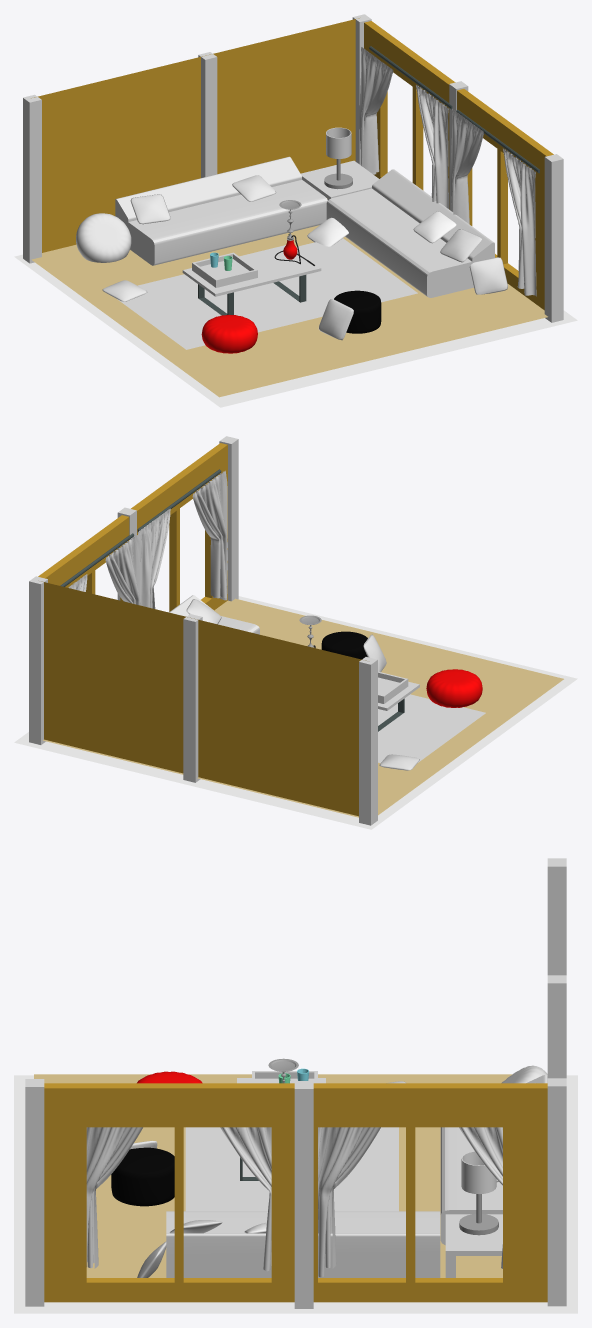
3 views of the same model, one above another, from view 1: azimuth 30°, elevation 25°; view 2: azimuth 150°, elevation 25°; view 3: azimuth 270°, elevation 25° (orthographic). The views are drawn at different scales.
Parts seen in each view (by area): view 1: node_20d93579_75fa_4b3d_a7e2_941d030e32ad_mesh0, node_d9c7d43b_3aca_48a9_93f9_915221a6483f_mesh0, node_b8a68b0b_8ff4_4136_9b34_05bc81d52556_mesh0, node_9f832873_7d57_4ad8_9b65_c66cfe17a4cb_mesh0, node_99283b48_a8bb_4089_88f0_9c91703dcc80_mesh0, node_65457b82_7571_4bde_8e88_470380910218_mesh0, node_9d2074c6_01f7_47d1_b5b8_4e52bf29071a_mesh0, node_0b06cc1f_5de7_423e_8459_76ba992030cf_mesh0, node_c39a4a16_4f59_417a_9865_62e4b864f9b2_mesh0, node_51bc653c_e51f_416e_9c50_a966a71bbad7_mesh0, node_58dee220_80a7_4308_b513_c4cc85b1e8c8_mesh0, node_ad3af5ea_87ed_40a0_8f16_532a77749d54_mesh0 (+20 smaller); view 2: node_20d93579_75fa_4b3d_a7e2_941d030e32ad_mesh0, node_d9c7d43b_3aca_48a9_93f9_915221a6483f_mesh0, node_99283b48_a8bb_4089_88f0_9c91703dcc80_mesh0, node_9d2074c6_01f7_47d1_b5b8_4e52bf29071a_mesh0, node_9f832873_7d57_4ad8_9b65_c66cfe17a4cb_mesh0, node_c39a4a16_4f59_417a_9865_62e4b864f9b2_mesh0, node_51bc653c_e51f_416e_9c50_a966a71bbad7_mesh0, node_81051892_5a3a_4deb_9531_d4b74def36a1_mesh0, node_38c67f0a_60a3_4185_b19c_8ae27163a3ea_mesh0, node_1923faae_39f5_437d_8101_7b4ec6585522_mesh0, node_0b06cc1f_5de7_423e_8459_76ba992030cf_mesh0, node_b2352418_5173_474b_b52a_857bb3c06a34_mesh0 (+4 smaller); view 3: node_99283b48_a8bb_4089_88f0_9c91703dcc80_mesh0, node_d9c7d43b_3aca_48a9_93f9_915221a6483f_mesh0, node_65457b82_7571_4bde_8e88_470380910218_mesh0, node_9d2074c6_01f7_47d1_b5b8_4e52bf29071a_mesh0, node_9f832873_7d57_4ad8_9b65_c66cfe17a4cb_mesh0, node_38c67f0a_60a3_4185_b19c_8ae27163a3ea_mesh0, node_7d7b0990_b175_47a4_bcf0_79ea0ada298b_mesh0, node_0b06cc1f_5de7_423e_8459_76ba992030cf_mesh0, node_998a44b5_c286_49a2_afcc_a69e033edf71_mesh0, node_b8a68b0b_8ff4_4136_9b34_05bc81d52556_mesh0, node_9a859d35_2ba9_4da5_b967_aacd93b305de_mesh0, node_51bc653c_e51f_416e_9c50_a966a71bbad7_mesh0 (+9 smaller).
Boxes of the visible parts, left/top/right/bottom form: node_20d93579_75fa_4b3d_a7e2_941d030e32ad_mesh0: left=31, top=18, right=359, bottom=252; node_d9c7d43b_3aca_48a9_93f9_915221a6483f_mesh0: left=31, top=198, right=547, bottom=397; node_b8a68b0b_8ff4_4136_9b34_05bc81d52556_mesh0: left=115, top=156, right=327, bottom=265; node_9f832873_7d57_4ad8_9b65_c66cfe17a4cb_mesh0: left=117, top=238, right=417, bottom=349; node_99283b48_a8bb_4089_88f0_9c91703dcc80_mesh0: left=364, top=21, right=553, bottom=310; node_65457b82_7571_4bde_8e88_470380910218_mesh0: left=326, top=169, right=494, bottom=297; node_9d2074c6_01f7_47d1_b5b8_4e52bf29071a_mesh0: left=14, top=254, right=577, bottom=407; node_0b06cc1f_5de7_423e_8459_76ba992030cf_mesh0: left=544, top=154, right=563, bottom=322; node_c39a4a16_4f59_417a_9865_62e4b864f9b2_mesh0: left=23, top=94, right=41, bottom=263; node_51bc653c_e51f_416e_9c50_a966a71bbad7_mesh0: left=503, top=148, right=536, bottom=296; node_58dee220_80a7_4308_b513_c4cc85b1e8c8_mesh0: left=359, top=47, right=393, bottom=174; node_ad3af5ea_87ed_40a0_8f16_532a77749d54_mesh0: left=182, top=245, right=321, bottom=296; node_20d93579_75fa_4b3d_a7e2_941d030e32ad_mesh0: left=41, top=581, right=366, bottom=816; node_d9c7d43b_3aca_48a9_93f9_915221a6483f_mesh0: left=43, top=598, right=563, bottom=817; node_99283b48_a8bb_4089_88f0_9c91703dcc80_mesh0: left=38, top=443, right=227, bottom=611; node_9d2074c6_01f7_47d1_b5b8_4e52bf29071a_mesh0: left=14, top=596, right=577, bottom=829; node_9f832873_7d57_4ad8_9b65_c66cfe17a4cb_mesh0: left=378, top=694, right=485, bottom=763; node_c39a4a16_4f59_417a_9865_62e4b864f9b2_mesh0: left=359, top=657, right=377, bottom=825; node_51bc653c_e51f_416e_9c50_a966a71bbad7_mesh0: left=192, top=470, right=227, bottom=600; node_81051892_5a3a_4deb_9531_d4b74def36a1_mesh0: left=183, top=614, right=202, bottom=782; node_38c67f0a_60a3_4185_b19c_8ae27163a3ea_mesh0: left=29, top=576, right=47, bottom=744; node_1923faae_39f5_437d_8101_7b4ec6585522_mesh0: left=138, top=508, right=170, bottom=608; node_0b06cc1f_5de7_423e_8459_76ba992030cf_mesh0: left=219, top=436, right=238, bottom=601; node_b2352418_5173_474b_b52a_857bb3c06a34_mesh0: left=426, top=669, right=482, bottom=707; node_99283b48_a8bb_4089_88f0_9c91703dcc80_mesh0: left=44, top=1083, right=547, bottom=1302; node_d9c7d43b_3aca_48a9_93f9_915221a6483f_mesh0: left=34, top=1074, right=512, bottom=1277; node_65457b82_7571_4bde_8e88_470380910218_mesh0: left=166, top=1211, right=440, bottom=1277; node_9d2074c6_01f7_47d1_b5b8_4e52bf29071a_mesh0: left=14, top=1075, right=577, bottom=1313; node_9f832873_7d57_4ad8_9b65_c66cfe17a4cb_mesh0: left=185, top=1127, right=398, bottom=1211; node_38c67f0a_60a3_4185_b19c_8ae27163a3ea_mesh0: left=547, top=1078, right=566, bottom=1306; node_7d7b0990_b175_47a4_bcf0_79ea0ada298b_mesh0: left=294, top=1081, right=313, bottom=1308; node_0b06cc1f_5de7_423e_8459_76ba992030cf_mesh0: left=25, top=1079, right=44, bottom=1306; node_998a44b5_c286_49a2_afcc_a69e033edf71_mesh0: left=318, top=1127, right=380, bottom=1277; node_b8a68b0b_8ff4_4136_9b34_05bc81d52556_mesh0: left=440, top=1075, right=547, bottom=1245; node_9a859d35_2ba9_4da5_b967_aacd93b305de_mesh0: left=111, top=1147, right=174, bottom=1206; node_51bc653c_e51f_416e_9c50_a966a71bbad7_mesh0: left=86, top=1127, right=142, bottom=1268.
Size of the model in its own units: 462 by 205 by 462.
